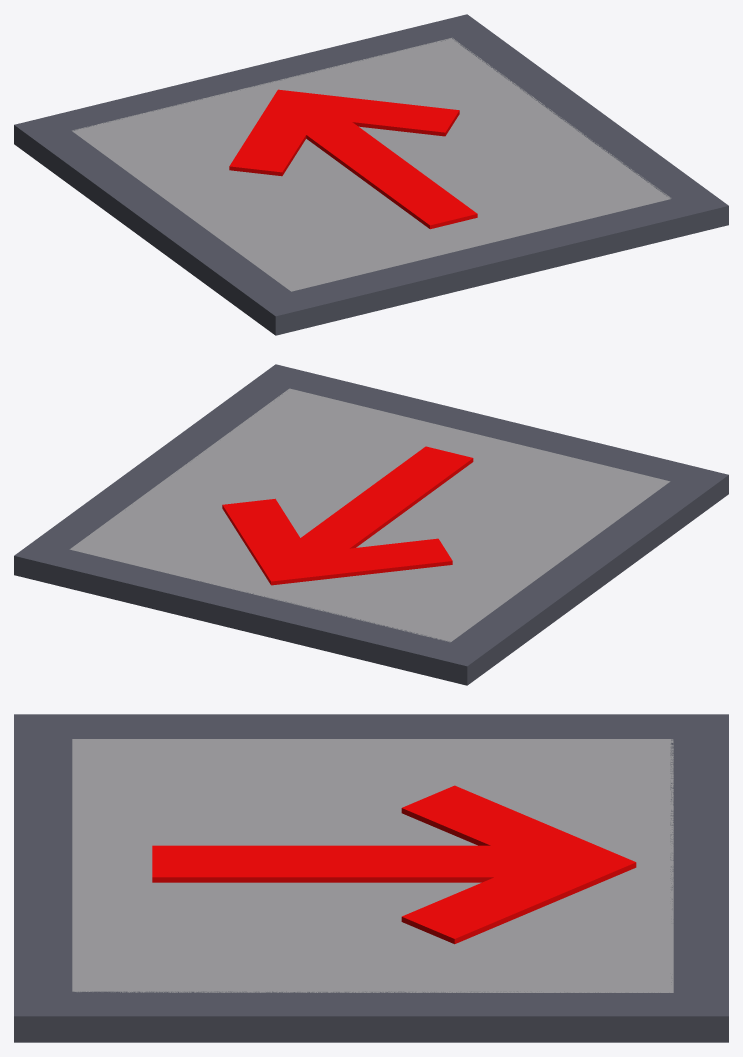
The model's file is Obby_checkpoint.fbx.
3 views of the same model, one above another, from view 1: azimuth 30°, elevation 25°; view 2: azimuth 150°, elevation 25°; view 3: azimuth 270°, elevation 25° (orthographic). The views are drawn at different scales.
Parts seen in each view (by area): view 1: Gray1, Part7, Part4, Part6, Part5, Part1, Part2, Part3; view 2: Gray1, Part4, Part5, Part6, Part7, Part1, Part3, Part2; view 3: Gray1, Part6, Part4, Part7, Part5, Part1, Part3, Part2.
Boxes of the visible parts, x1=… form: Gray1: x1=72, y1=37, x2=671, y2=291; Part7: x1=291, y1=199, x2=691, y2=326; Part4: x1=14, y1=116, x2=312, y2=335; Part6: x1=430, y1=14, x2=728, y2=233; Part5: x1=51, y1=23, x2=449, y2=130; Part1: x1=291, y1=112, x2=477, y2=229; Part2: x1=266, y1=89, x2=459, y2=136; Part3: x1=229, y1=90, x2=314, y2=176; Gray1: x1=69, y1=388, x2=670, y2=642; Part4: x1=430, y1=466, x2=728, y2=685; Part5: x1=51, y1=550, x2=450, y2=676; Part6: x1=14, y1=364, x2=312, y2=583; Part7: x1=291, y1=373, x2=691, y2=481; Part1: x1=287, y1=446, x2=473, y2=559; Part3: x1=257, y1=538, x2=452, y2=585; Part2: x1=222, y1=498, x2=323, y2=584; Gray1: x1=72, y1=739, x2=673, y2=992; Part6: x1=14, y1=991, x2=728, y2=1042; Part4: x1=14, y1=714, x2=728, y2=738; Part7: x1=14, y1=739, x2=72, y2=991; Part5: x1=670, y1=739, x2=728, y2=991; Part1: x1=152, y1=845, x2=531, y2=882; Part3: x1=401, y1=785, x2=635, y2=884; Part2: x1=401, y1=840, x2=636, y2=944.
Bounding box in the file's own units: 2450 × 120 × 2450.
